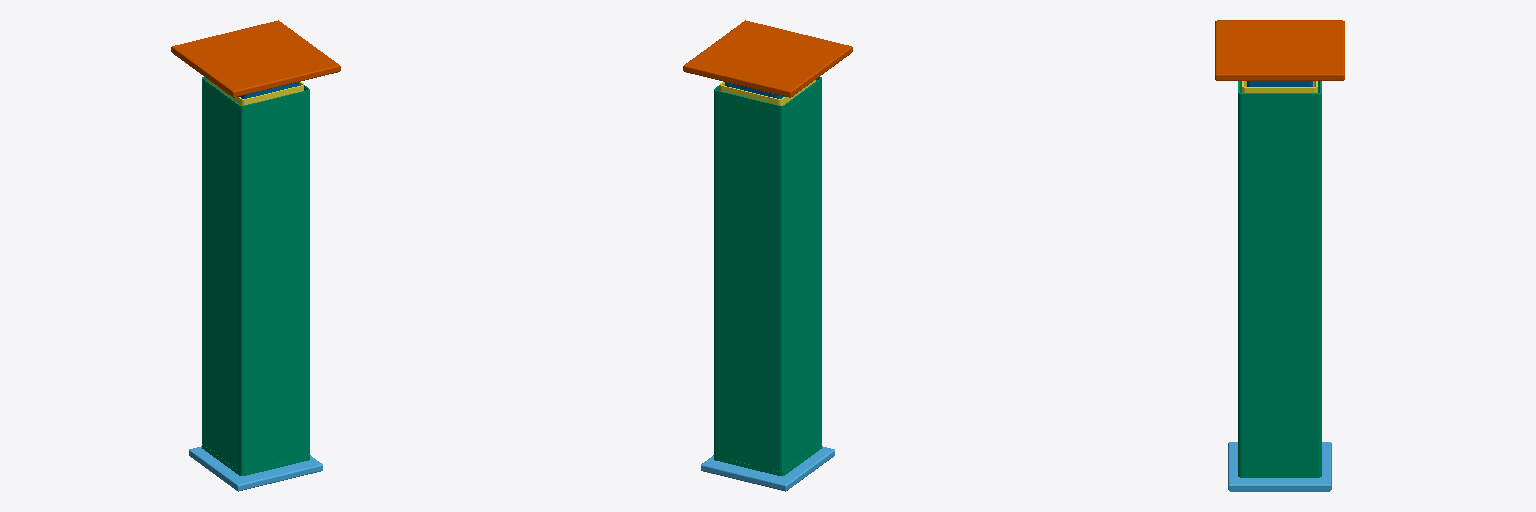
URDF robot description (ewellix_liftkit_ur620_reference):
<?xml version="1.0"?>
<robot name="ewellix_liftkit_ur620_reference">
<link name="base_link"></link>
<link name="lift_plate_link"><visual ><geometry ><mesh filename="../meshes/lift_plate_link.obj"/></geometry></visual><collision ><origin xyz="0 0 0.0075" rpy="0 0 0"/><geometry ><box size="0.2 0.2 0.015"/></geometry></collision></link>
<link name="lift_base_link"><visual ><geometry ><mesh filename="../meshes/lift_base_link.obj"/></geometry></visual><collision ><origin xyz="-0.08 0 0.41035" rpy="0 0 0"/><geometry ><box size="0.003 0.163 0.8207"/></geometry></collision><collision ><origin xyz="0 -0.08 0.41035" rpy="0 0 0"/><geometry ><box size="0.157 0.003 0.8207"/></geometry></collision><collision ><origin xyz="0.08 0 0.41035" rpy="0 0 0"/><geometry ><box size="0.003 0.163 0.8207"/></geometry></collision><collision ><origin xyz="0 0.08 0.41035" rpy="0 0 0"/><geometry ><box size="0.157 0.003 0.8207"/></geometry></collision></link>
<link name="lift_lower_link"><visual ><geometry ><mesh filename="../meshes/lift_lower_link.obj"/></geometry></visual><collision ><origin xyz="-0.0715 0 0.4" rpy="0 0 0"/><geometry ><box size="0.003 0.146 0.8"/></geometry></collision><collision ><origin xyz="0 -0.0715 0.4" rpy="0 0 0"/><geometry ><box size="0.14 0.003 0.8"/></geometry></collision><collision ><origin xyz="0.0715 0 0.4" rpy="0 0 0"/><geometry ><box size="0.003 0.146 0.8"/></geometry></collision><collision ><origin xyz="0 0.0715 0.4" rpy="0 0 0"/><geometry ><box size="0.14 0.003 0.8"/></geometry></collision></link>
<link name="lift_upper_link"><visual ><geometry ><mesh filename="../meshes/lift_upper_link.obj"/></geometry></visual><collision ><origin xyz="-0.063 0 0.419" rpy="0 0 0"/><geometry ><box size="0.003 0.129 0.838"/></geometry></collision><collision ><origin xyz="0 -0.063 0.419" rpy="0 0 0"/><geometry ><box size="0.123 0.003 0.838"/></geometry></collision><collision ><origin xyz="0.063 0 0.419" rpy="0 0 0"/><geometry ><box size="0.003 0.129 0.838"/></geometry></collision><collision ><origin xyz="0 0.063 0.419" rpy="0 0 0"/><geometry ><box size="0.123 0.003 0.838"/></geometry></collision></link>
<link name="lift_mount_link"><visual ><geometry ><mesh filename="../meshes/lift_mount_link.obj"/></geometry></visual><collision ><origin xyz="0 0 0.0075" rpy="0 0 0"/><geometry ><box size="0.251 0.251 0.015"/></geometry></collision></link>
<link name="lift_mount"></link>
<joint name="lift_plate_joint" type="fixed"><parent link="base_link"/><child link="lift_plate_link"/><origin xyz="0 0 0" rpy="0 0 0"/></joint>
<joint name="lift_base_joint" type="fixed"><parent link="lift_plate_link"/><child link="lift_base_link"/><origin xyz="0 0 0.015" rpy="0 0 0"/></joint>
<joint name="lift_lower_joint" type="prismatic"><parent link="lift_base_link"/><child link="lift_lower_link"/><origin xyz="0 0 0.03" rpy="0 0 0"/><axis xyz="0 0 1"/><limit lower="0" upper="0.4" velocity="0.04" effort="1500"/></joint>
<joint name="lift_upper_joint" type="prismatic"><parent link="lift_lower_link"/><child link="lift_upper_link"/><origin xyz="0 0 0.007" rpy="0 0 0"/><axis xyz="0 0 1"/><limit lower="0" upper="0.4" velocity="0.04" effort="1500"/><mimic joint="lift_lower_joint" multiplier="1" offset="0"/></joint>
<joint name="lift__mount_link_joint" type="fixed"><parent link="lift_upper_link"/><child link="lift_mount_link"/><origin xyz="0 0 0.838" rpy="0 0 0"/></joint>
<joint name="lift_mount_joint" type="fixed"><parent link="lift_mount_link"/><child link="lift_mount"/><origin xyz="0 0 0.015" rpy="0 0 0"/></joint>
</robot>

--- What the picture shows (computed from the rendered views, not written in the file) ---
Views: 3 orthographic renders of the robot side by side, from view 1: azimuth 30°, elevation 25°; view 2: azimuth 150°, elevation 25°; view 3: azimuth 270°, elevation 25°.
Model ewellix_liftkit_ur620_reference with 7 links and 6 joints (2 prismatic, 4 fixed), rooted at base_link, posed every joint at zero.
Links seen in each view (by area): view 1: lift_base_link, lift_mount_link, lift_plate_link; view 2: lift_base_link, lift_mount_link, lift_plate_link; view 3: lift_base_link, lift_mount_link, lift_plate_link.
Link boxes in pixels (x1,y1,x2,y2): lift_base_link: (202, 77, 309, 475); lift_mount_link: (171, 20, 340, 97); lift_plate_link: (189, 446, 322, 491); lift_base_link: (714, 77, 821, 475); lift_mount_link: (683, 20, 852, 97); lift_plate_link: (701, 446, 834, 491); lift_base_link: (1238, 81, 1321, 477); lift_mount_link: (1215, 20, 1344, 80); lift_plate_link: (1228, 442, 1331, 491).
Bounding box of the posed robot: 0.251 × 0.251 × 0.905 m (x, y, z).
5 mesh visuals loaded from 5 distinct referenced files (5 OBJ).
